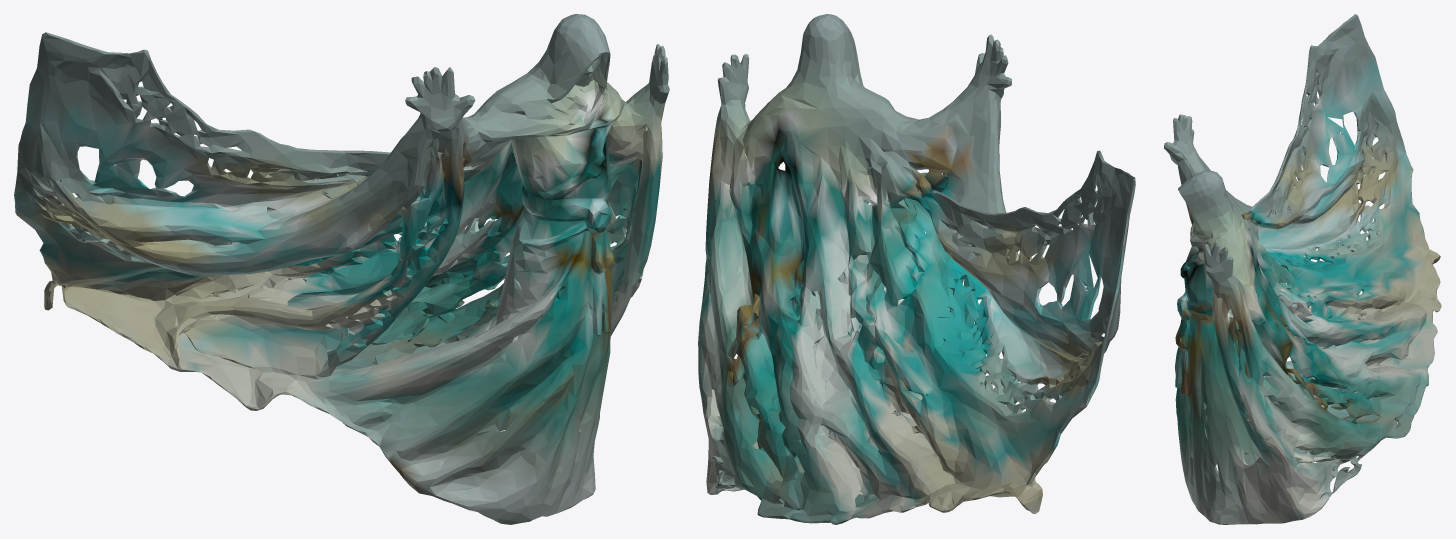
The model's file is python.glb.
3 renders of one model, left to right at view 1: azimuth 30°, elevation 25°; view 2: azimuth 150°, elevation 25°; view 3: azimuth 270°, elevation 25°, orthographic. The views are drawn at different scales.
Parts seen in each view (by area): view 1: world; view 2: world; view 3: world.
Boxes of the visible parts, box(x1,y1,x2,y2) form: world: box(14, 14, 669, 524); world: box(698, 14, 1135, 524); world: box(1164, 14, 1441, 524).
Bounding box in the file's own units: 1.11 × 1 × 0.712.
